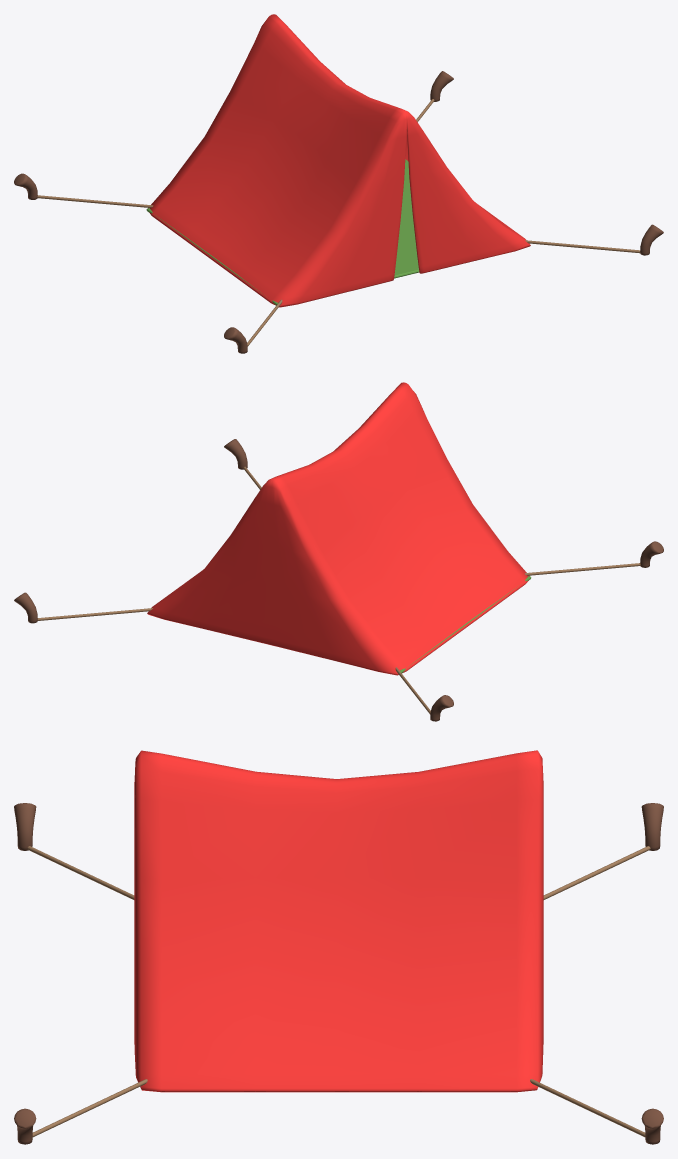
File: tent1.fbx
The picture shows the model from 3 angles, top to bottom: view 1: azimuth 30°, elevation 25°; view 2: azimuth 150°, elevation 25°; view 3: azimuth 270°, elevation 25°; orthographic projection. The views are drawn at different scales.
Parts seen in each view (by area): view 1: Cylinder.001; view 2: Cylinder.001; view 3: Cylinder.001.
Boxes of the visible parts, x1=… form: Cylinder.001: x1=14, y1=14, x2=663, y2=353; Cylinder.001: x1=14, y1=382, x2=663, y2=721; Cylinder.001: x1=14, y1=750, x2=663, y2=1144.
Size of the model in its own units: 313 by 113 by 269.
